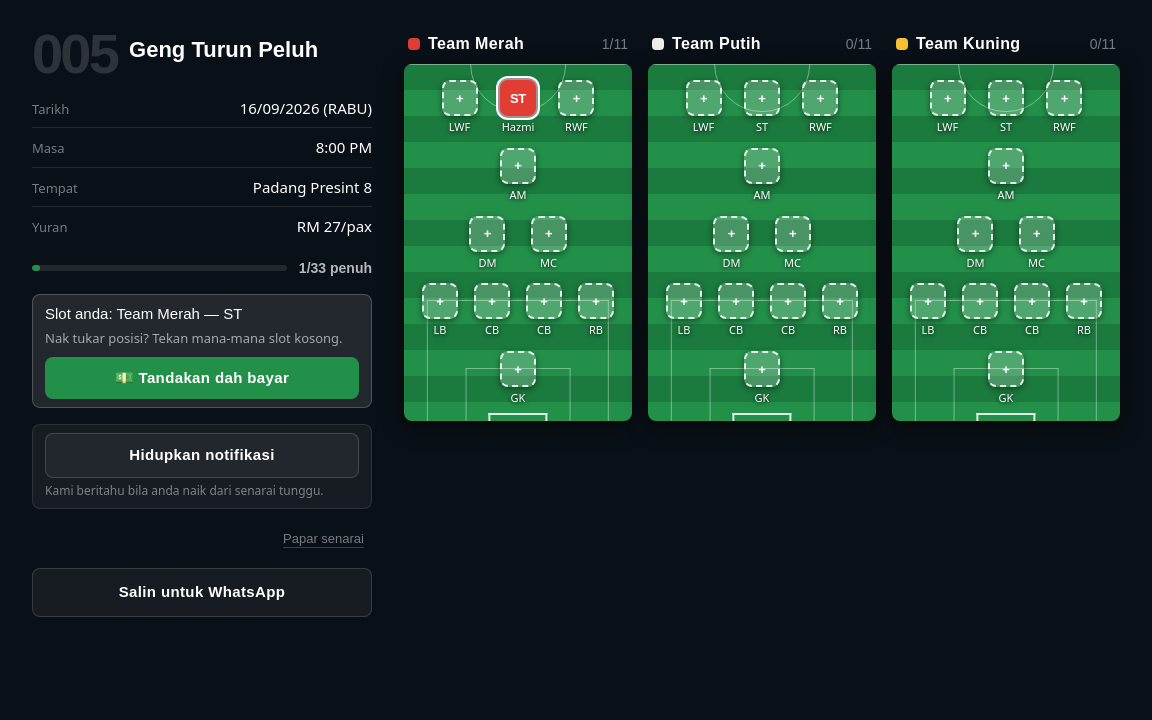
Test case: SessionPage › reverts the optimistic release and ownership, and reports the reason on failure
The image size is (1152, 720).
Click the button "ST Hazmi" at (518, 107), box [491,80,545,134]
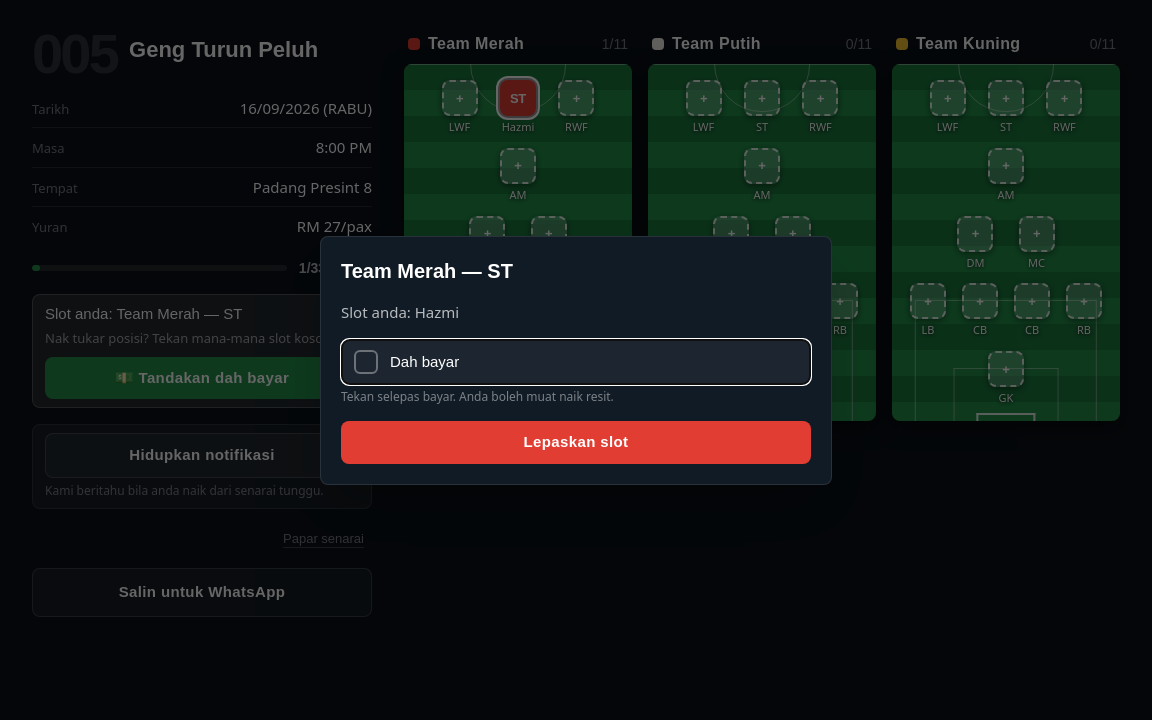
Click the button "Lepaskan slot" at (576, 442), box [341,421,811,464]
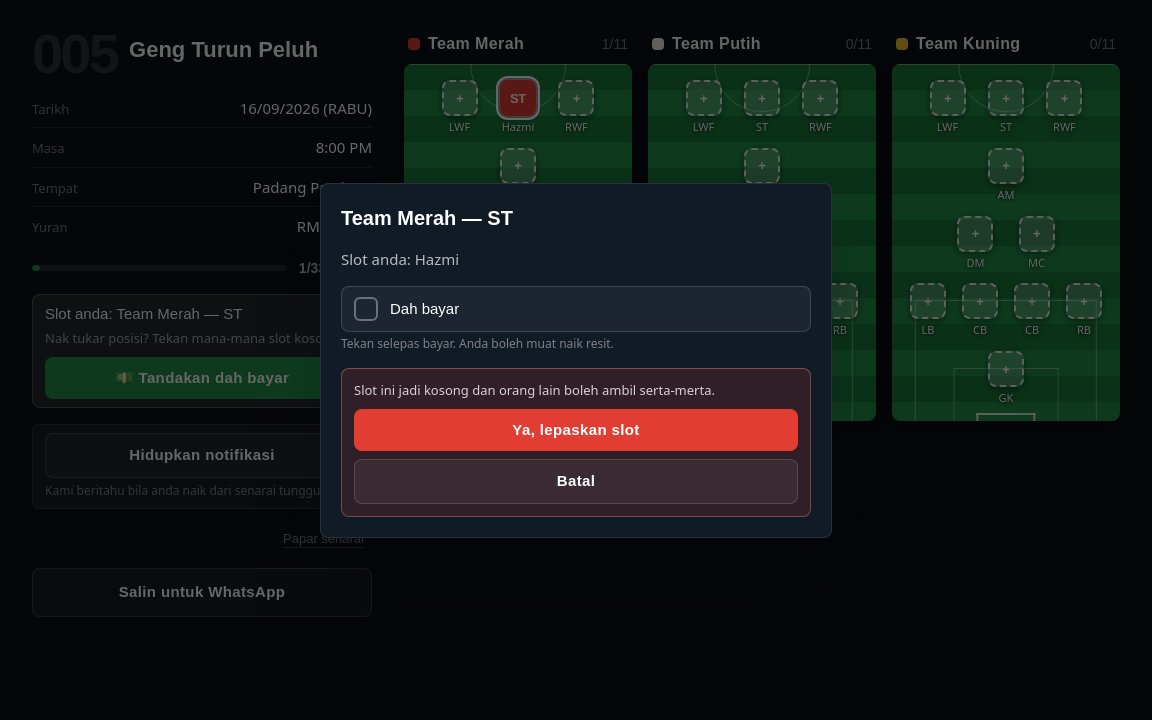
Click the button "Ya, lepaskan slot" at (576, 430), box [354,408,798,451]
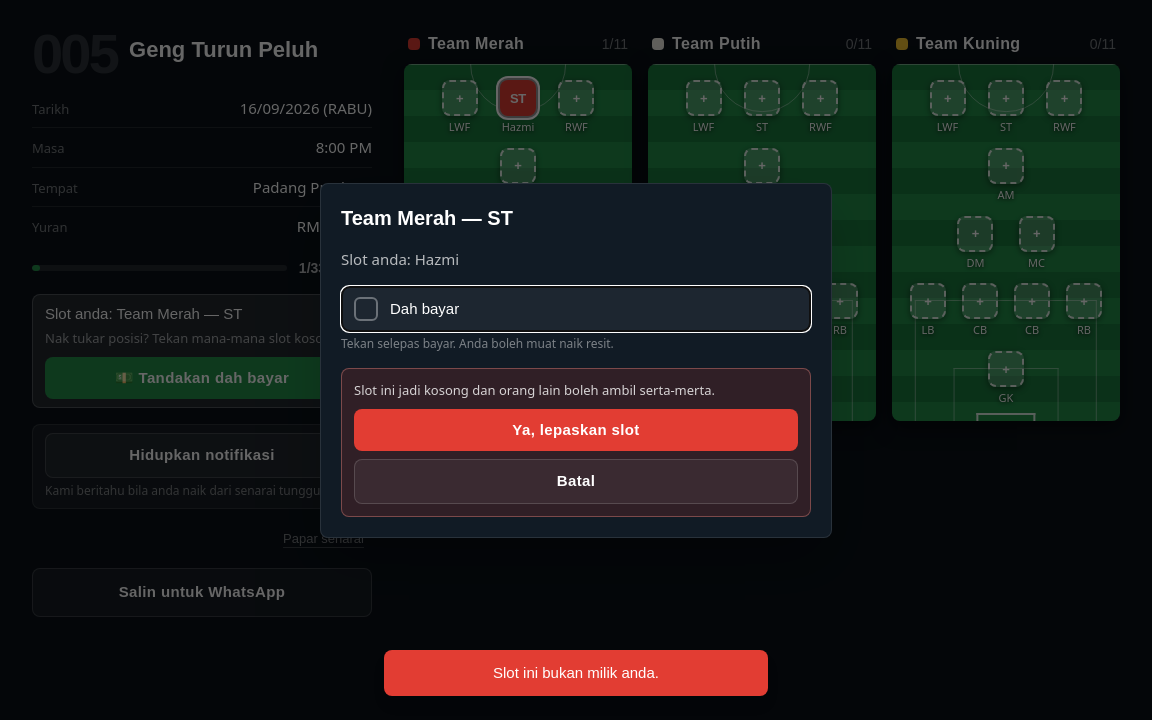
Result: the message reads "Slot ini bukan milik anda." at [493,664,659,680]
